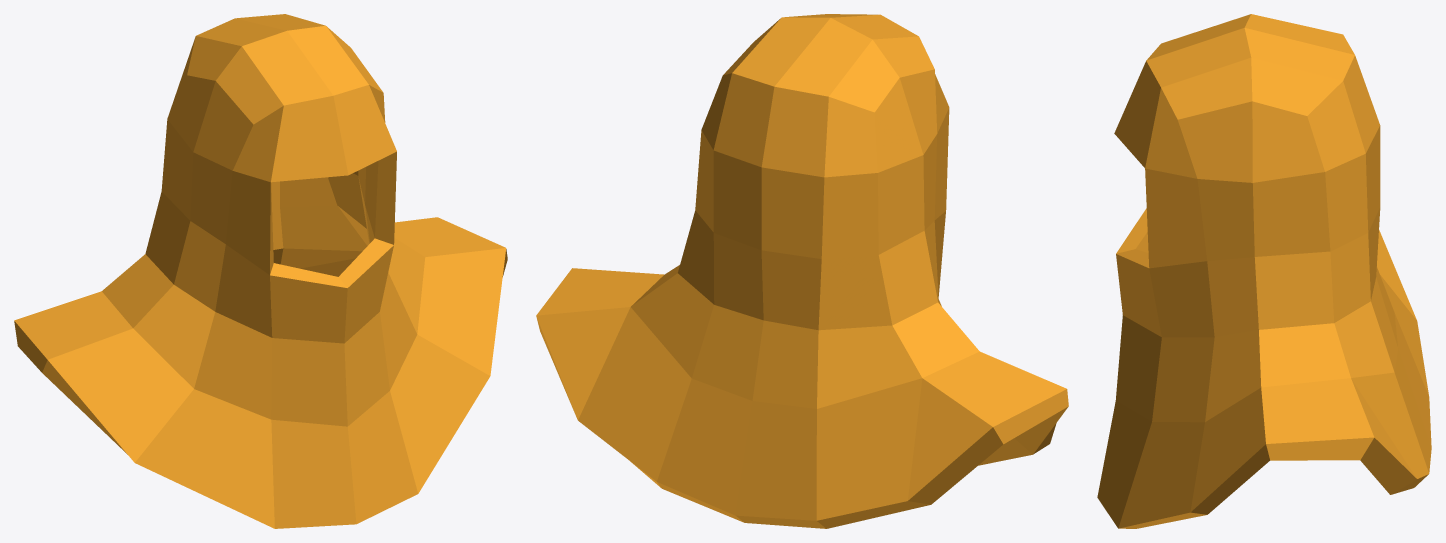
The model's file is SM_Coif_Chain.fbx.
The picture shows the model from 3 angles, left to right: view 1: azimuth 30°, elevation 25°; view 2: azimuth 150°, elevation 25°; view 3: azimuth 270°, elevation 25°; orthographic projection. The views are drawn at different scales.
Parts seen in each view (by area): view 1: coif-chain; view 2: coif-chain; view 3: coif-chain.
Boxes of the visible parts, box(x1,y1,x2,y2) form: coif-chain: box(14, 14, 507, 528); coif-chain: box(536, 14, 1068, 528); coif-chain: box(1097, 14, 1431, 528).
Bounding box in the file's own units: 0.4981 × 0.4549 × 0.2918.
